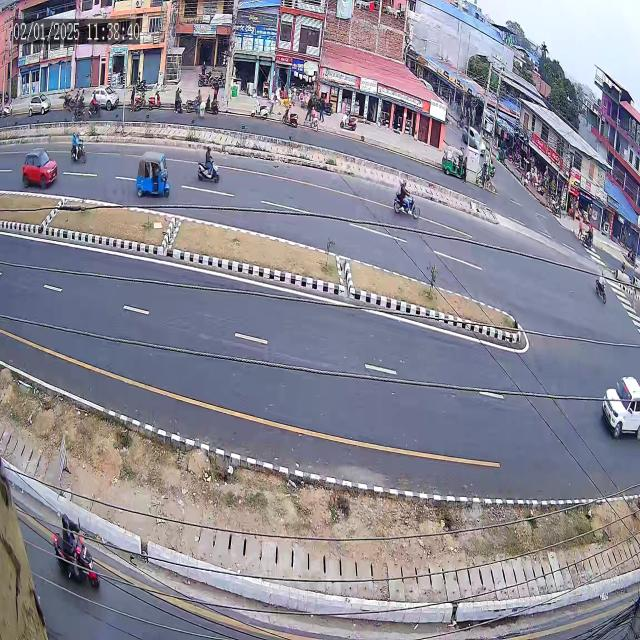auto: (130, 146, 174, 218)
car: (16, 142, 58, 192)
motorcycle: (38, 467, 106, 598), (384, 166, 422, 228), (191, 135, 223, 194), (64, 126, 91, 172), (593, 263, 609, 310)
